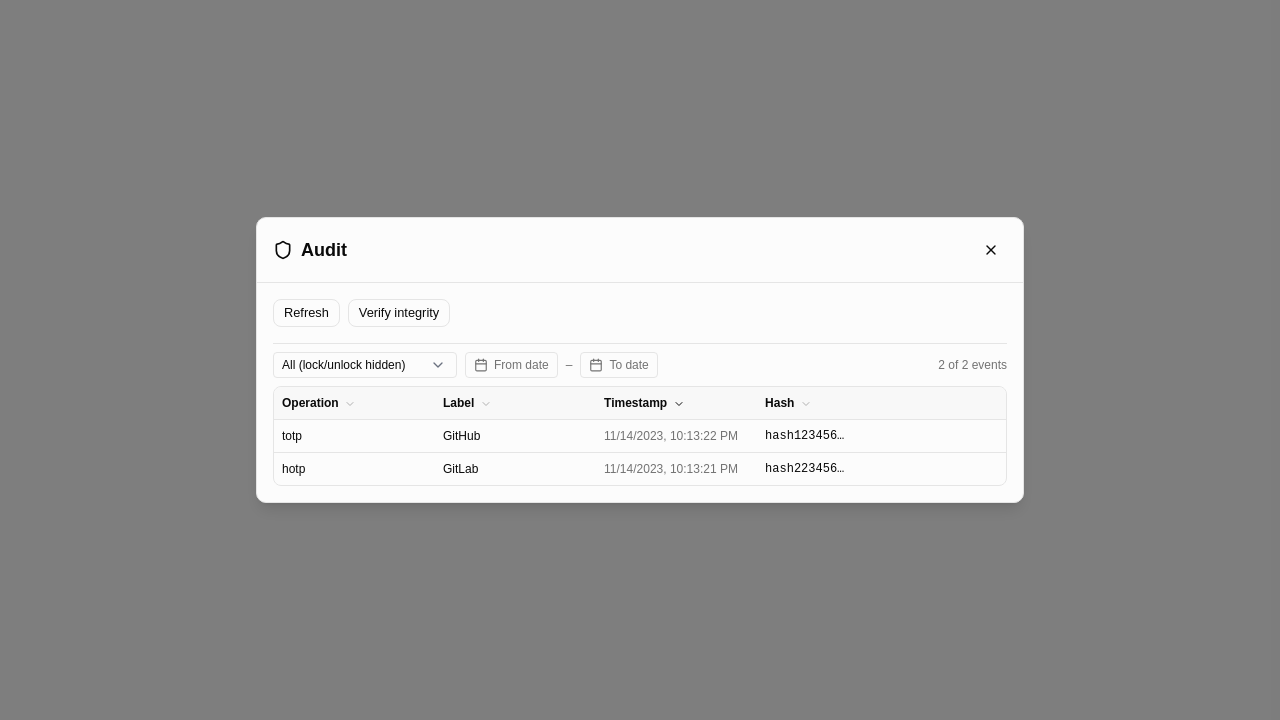
Test: AuditPanel › sorts by column on header click
The image size is (1280, 720).
Check: the text "2 of 2 events" is shown, box [938, 357, 1007, 373]
# Click Operation header to sort ascending
Click the column heading "Operation" at [354, 403], box [274, 387, 435, 420]
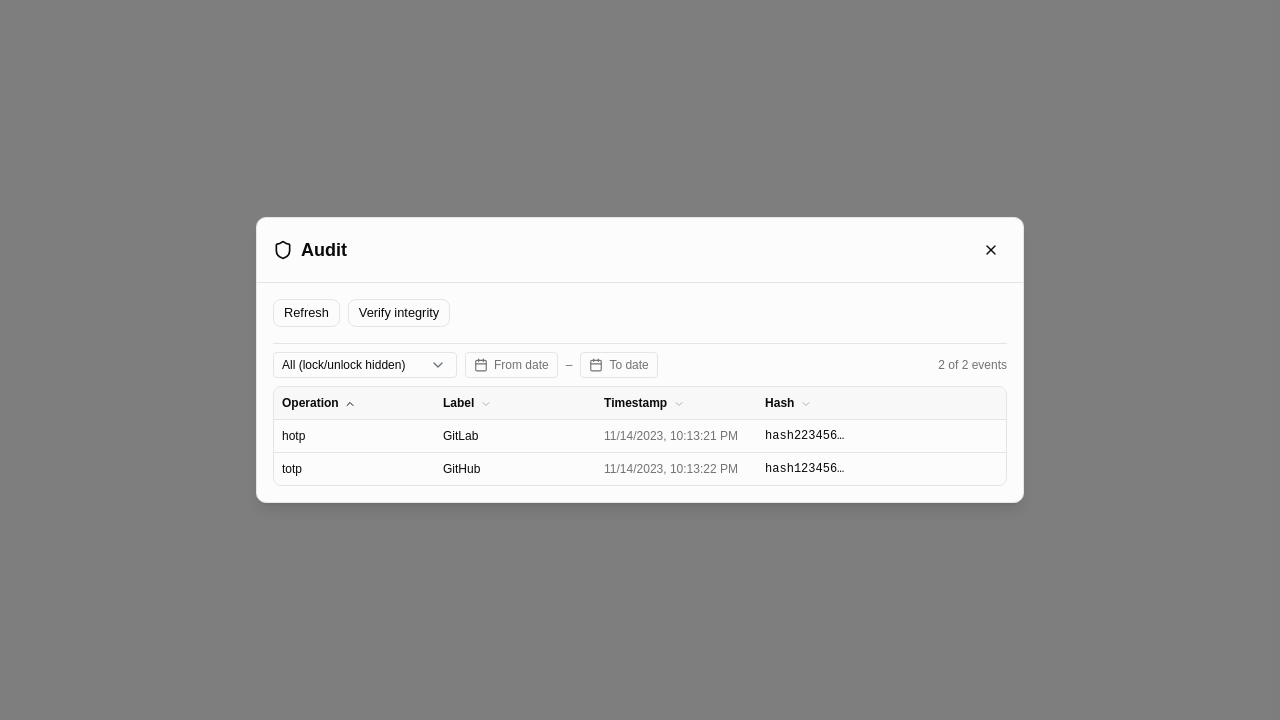
Check: the row "hotp GitLab 11/14/2023, 10:13:21 PM hash223456…" is shown, box [274, 420, 1006, 452]
